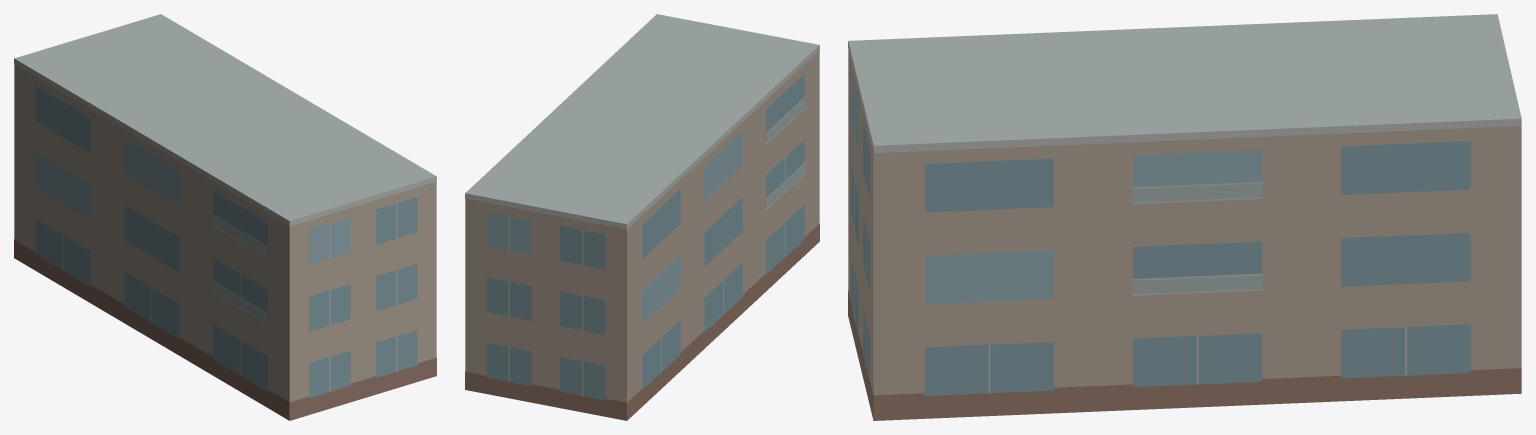
Rendered from survey-upis-32675600.glb.
3 views of the same model, side by side, from view 1: azimuth 30°, elevation 25°; view 2: azimuth 150°, elevation 25°; view 3: azimuth 270°, elevation 25° (orthographic). The views are drawn at different scales.
Visible parts, largest first — view 1: survey-upis-32675600.tmp; view 2: survey-upis-32675600.tmp; view 3: survey-upis-32675600.tmp.
Boxes of the visible parts, x1,y1,x2,y2 form: survey-upis-32675600.tmp: (14,14,436,420); survey-upis-32675600.tmp: (465,14,819,420); survey-upis-32675600.tmp: (848,14,1521,420).
Size of the model in its own units: 9.41 by 9.15 by 20.32.
